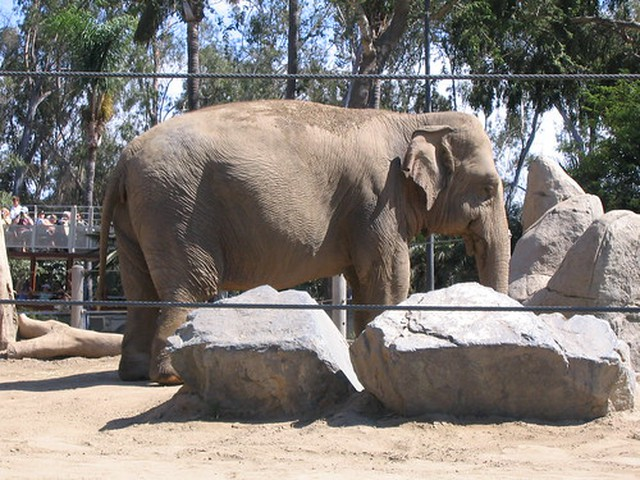Elephant: (101, 94, 520, 299)
Person: (4, 193, 86, 227)
